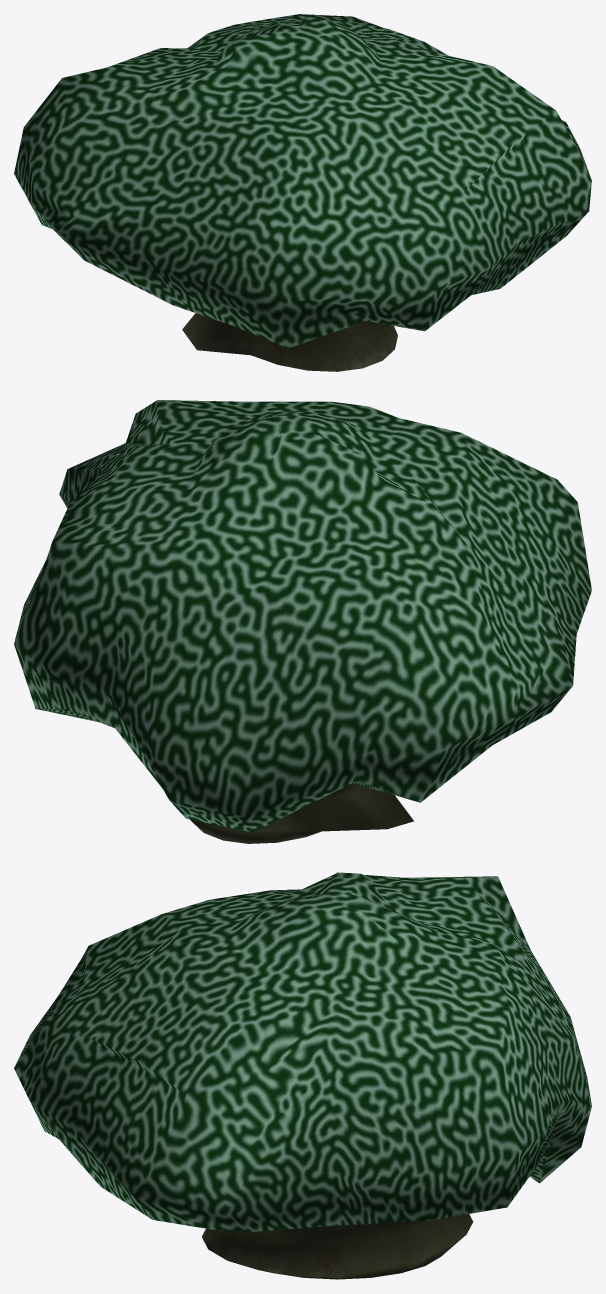
The model's file is coral-brain.glb.
3 views of the same model, one above another, from view 1: azimuth 30°, elevation 25°; view 2: azimuth 150°, elevation 25°; view 3: azimuth 270°, elevation 25° (orthographic). The views are drawn at different scales.
Parts seen in each view (by area): view 1: brain2_now3; view 2: brain2_now3; view 3: brain2_now3.
Boxes of the visible parts, left/top/right/bottom form: brain2_now3: left=14, top=14, right=591, bottom=371; brain2_now3: left=14, top=400, right=591, bottom=843; brain2_now3: left=14, top=872, right=591, bottom=1279.
Bounding box in the file's own units: 8.81 × 5.44 × 8.33.
Materials: 1 (1 with a texture image).
